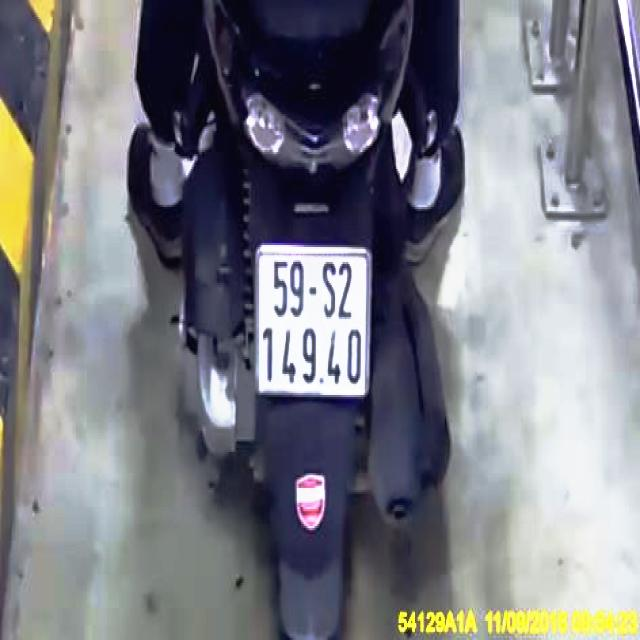license_plate: (255, 248, 369, 395)
